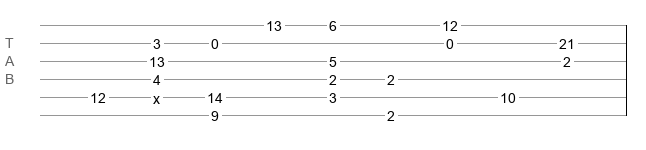0: (211, 36, 219, 46), (446, 36, 454, 46)
10: (500, 90, 516, 100)
12: (90, 90, 106, 100), (442, 18, 458, 28)
13: (149, 54, 165, 64), (266, 18, 282, 28)
14: (207, 90, 223, 100)
2: (329, 72, 337, 82), (387, 108, 395, 118), (387, 72, 395, 82), (563, 54, 571, 64)
21: (559, 36, 575, 46)
3: (153, 36, 161, 46), (329, 90, 337, 100)
4: (153, 72, 161, 82)
5: (329, 54, 337, 64)
6: (329, 18, 337, 28)
9: (211, 108, 219, 118)
x: (153, 91, 160, 99)
